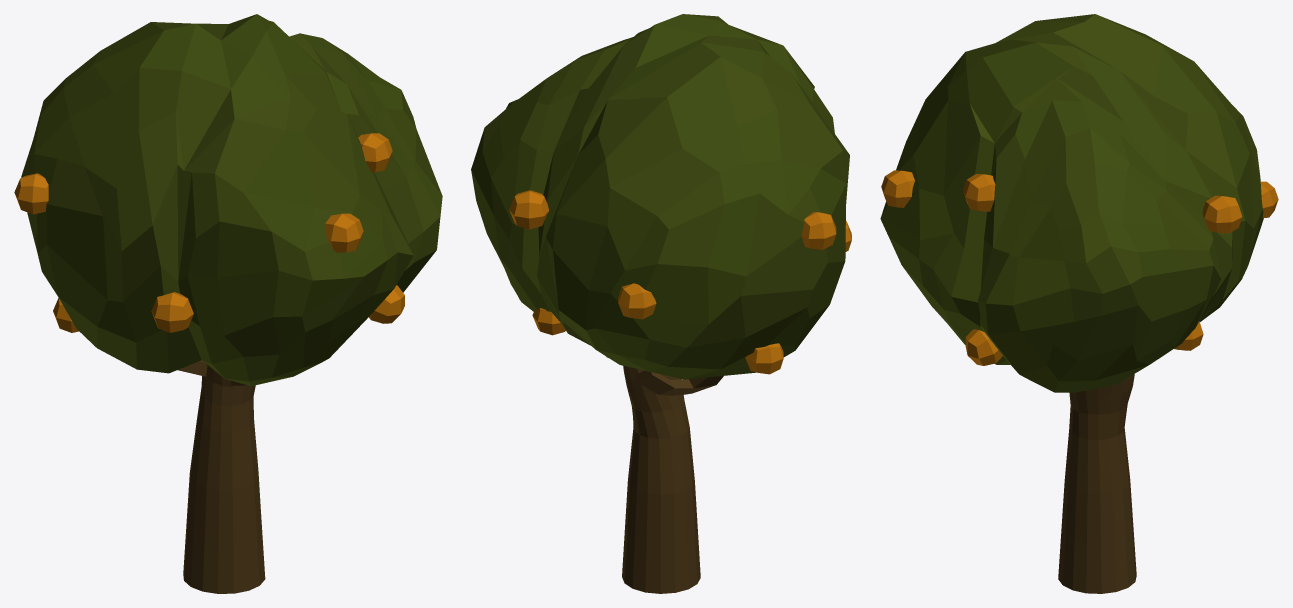
File: orange_tree.fbx
The picture shows the model from 3 angles, left to right: view 1: azimuth 30°, elevation 25°; view 2: azimuth 150°, elevation 25°; view 3: azimuth 270°, elevation 25°; orthographic projection. The views are drawn at different scales.
Parts seen in each view (by area): view 1: orange_tree; view 2: orange_tree; view 3: orange_tree.
Part boxes in pixels (<box>): orange_tree: <box>14,14,442,593</box>; orange_tree: <box>471,14,851,593</box>; orange_tree: <box>880,14,1278,593</box>.
Bounding box in the file's own units: 423 × 596 × 398.
